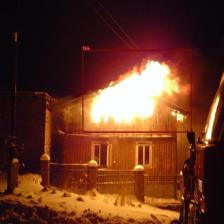fire: (83, 50, 192, 132)
